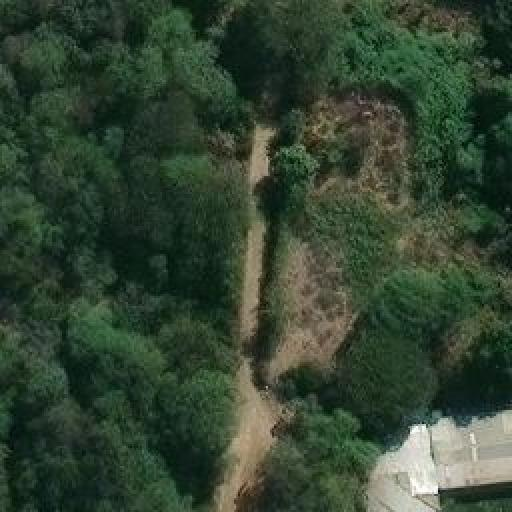manzanas: (356, 401, 510, 510)
